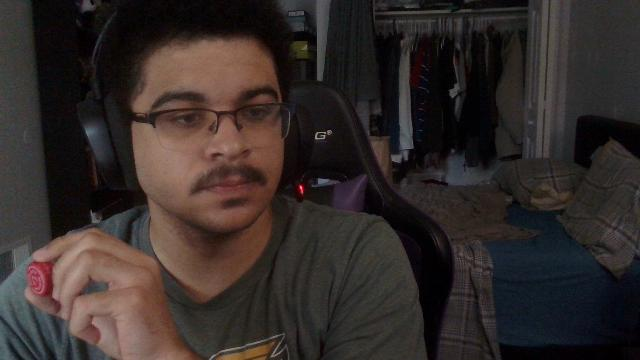cap: (26, 261, 54, 297)
